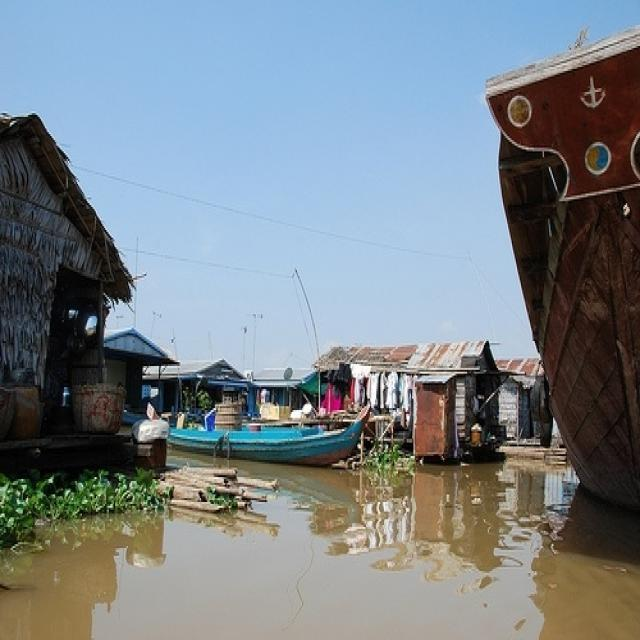Hyacinth: (3, 476, 169, 549), (364, 448, 405, 470)
boat: (164, 396, 386, 470)
